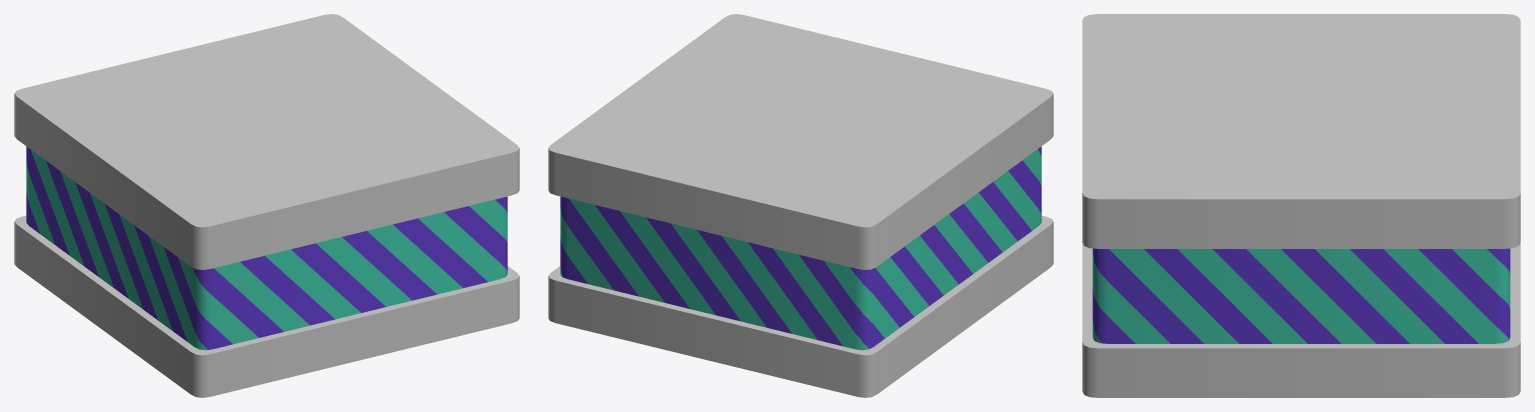
The model's file is GREEN_Cube_move.FBX.
The picture shows the model from 3 angles, left to right: view 1: azimuth 30°, elevation 25°; view 2: azimuth 150°, elevation 25°; view 3: azimuth 270°, elevation 25°; orthographic projection. The views are drawn at different scales.
Parts seen in each view (by area): view 1: GREEN_Cube_move, RotateMesh; view 2: GREEN_Cube_move, RotateMesh; view 3: GREEN_Cube_move, RotateMesh.
Part boxes in pixels (x1,y1,x2,y2): GREEN_Cube_move: [14, 14, 519, 397]; RotateMesh: [26, 146, 507, 350]; GREEN_Cube_move: [548, 14, 1053, 397]; RotateMesh: [560, 146, 1041, 350]; GREEN_Cube_move: [1082, 14, 1520, 397]; RotateMesh: [1092, 248, 1510, 343].
Bounding box in the file's own units: 53.76 × 26.88 × 53.76.
